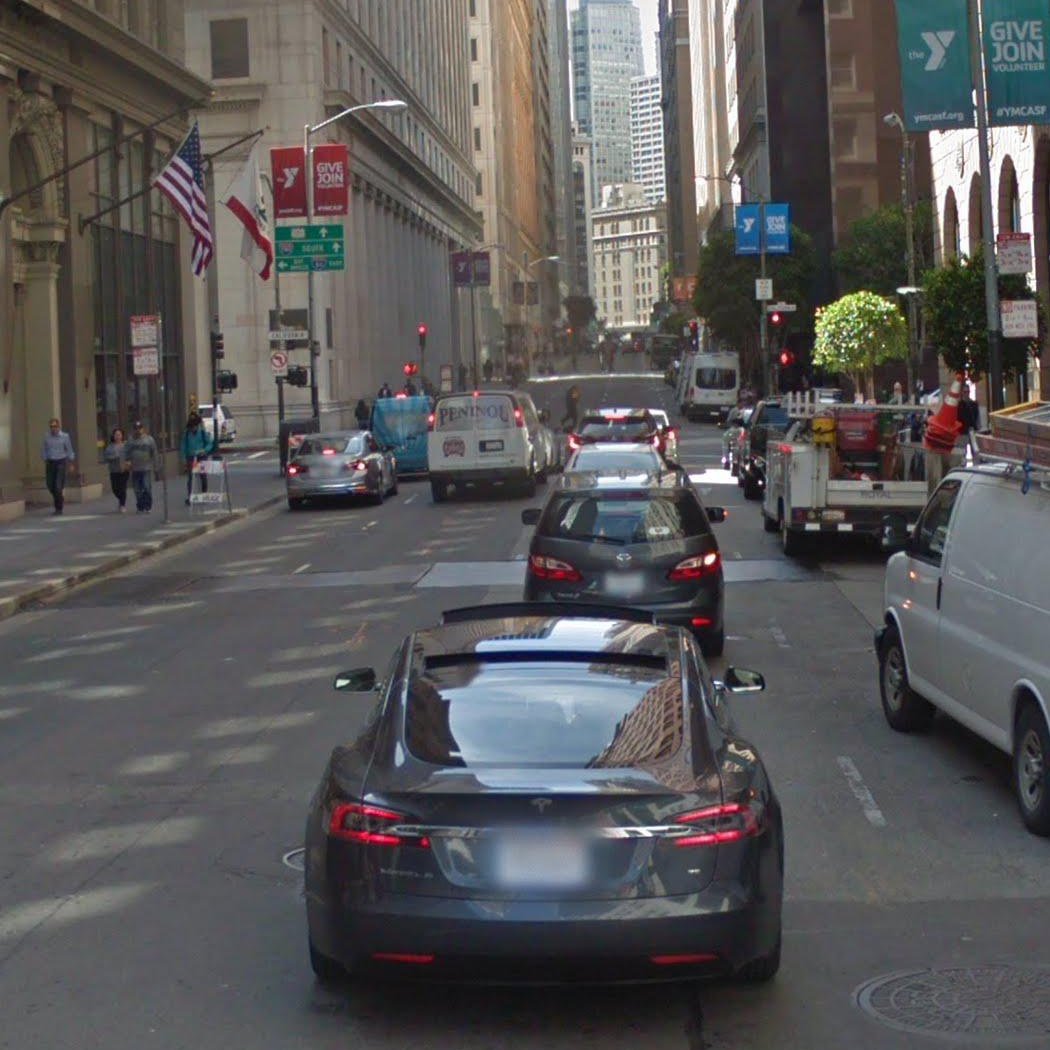No Parking: (1002, 299, 1039, 337), (133, 349, 159, 374)
